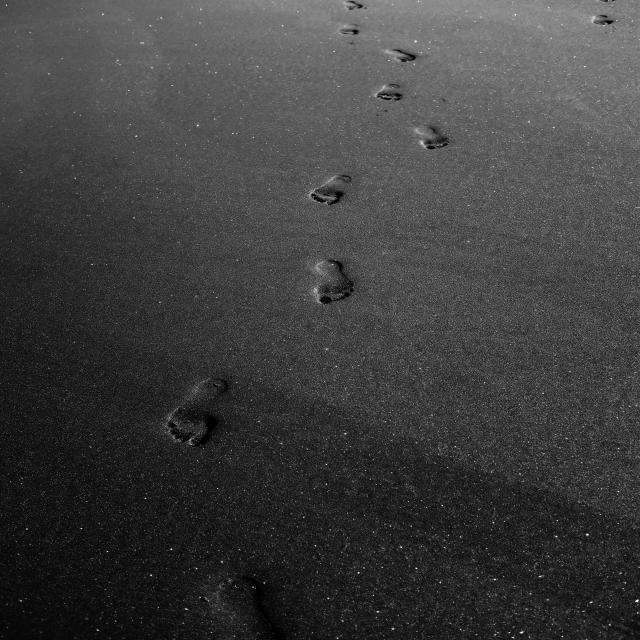human_footprint: (248, 0, 540, 543)
